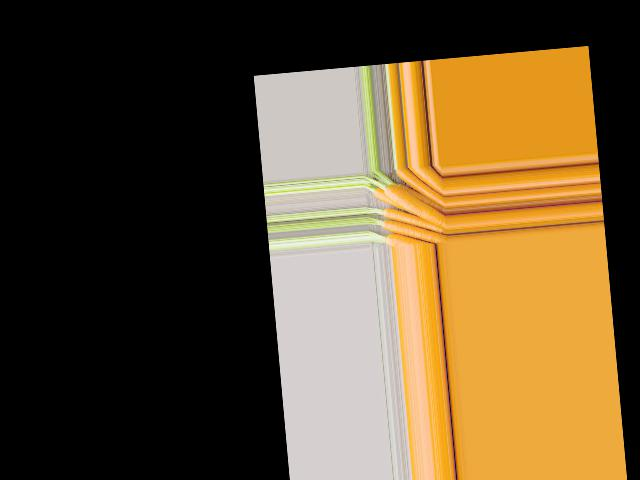carrot: (395, 165, 445, 205)
